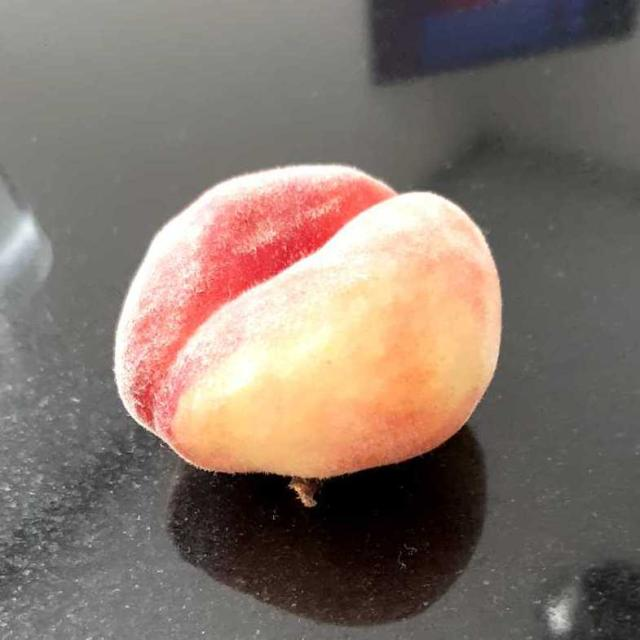peach: (122, 123, 511, 487)
